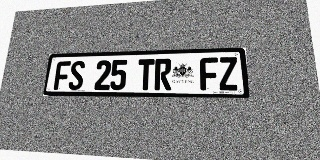2: (94, 60, 112, 90)
5: (110, 60, 127, 90)
F: (200, 57, 219, 90), (53, 61, 71, 90)
R: (154, 58, 172, 90)
S: (68, 61, 85, 90)
T: (137, 59, 155, 90)
Z: (218, 57, 239, 90)
